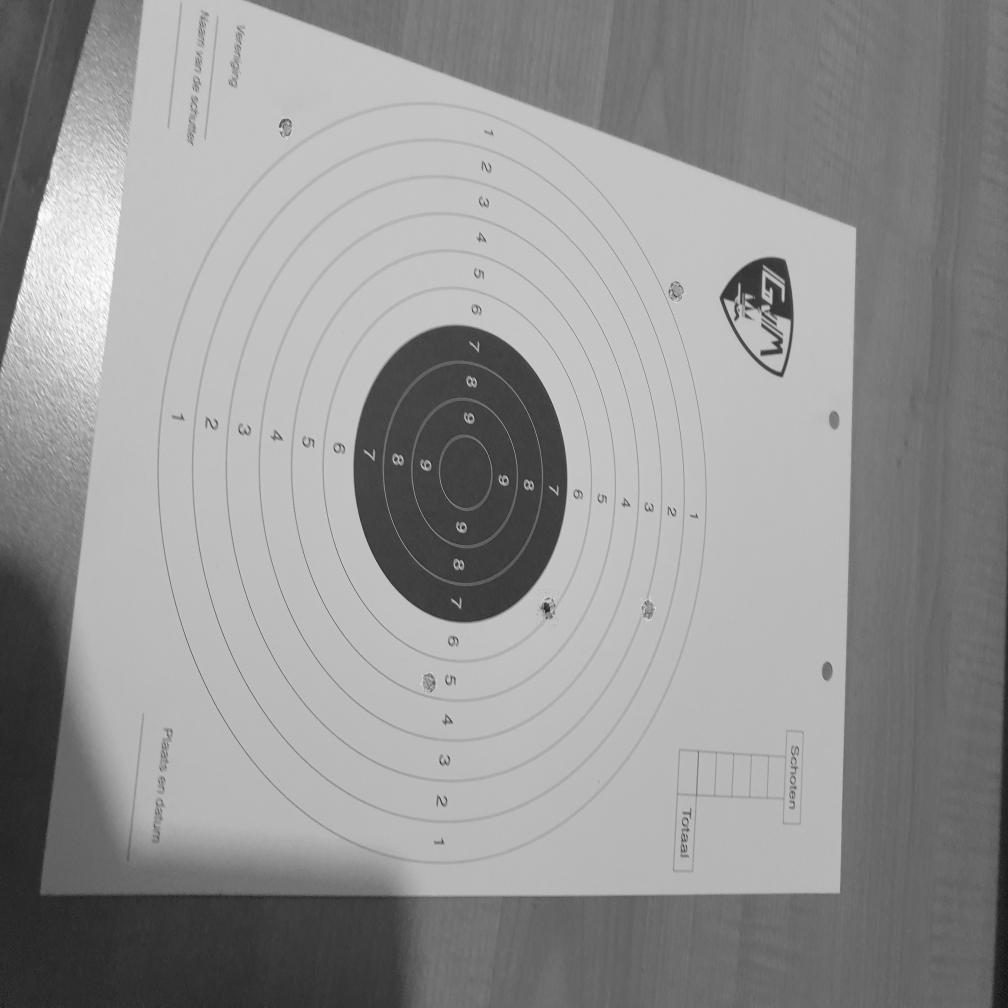0: (667, 279, 685, 305), (278, 116, 293, 142)
3: (640, 598, 656, 621)
5: (421, 672, 437, 694)
6: (539, 596, 556, 620)
Target: (158, 97, 708, 867)
black_contour: (353, 324, 567, 625)
